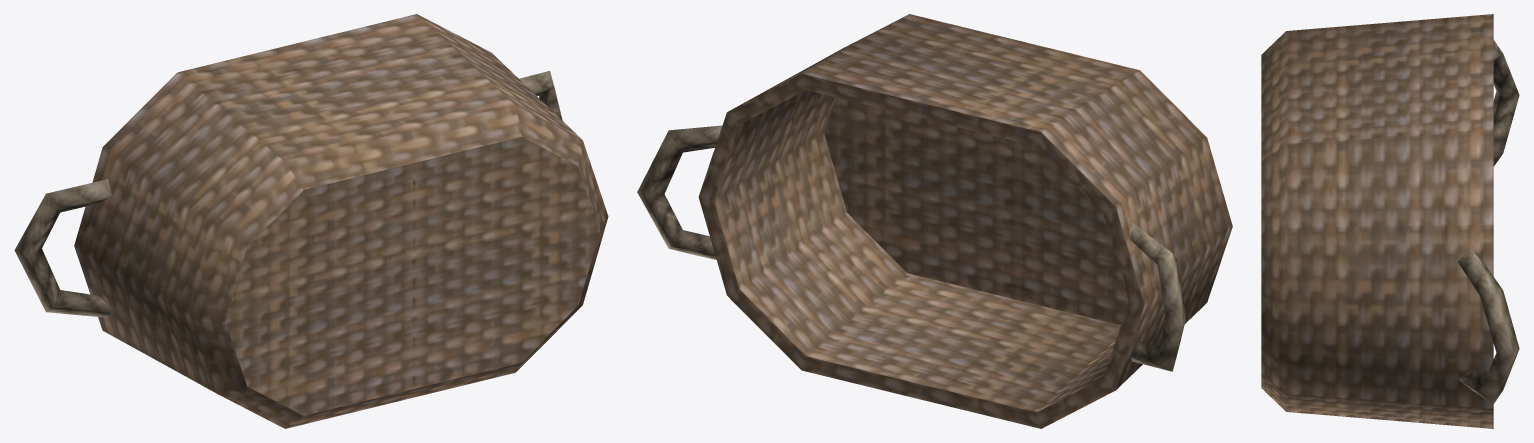
Rendered from Basket_Round_B.fbx.
3 views of the same model, side by side, from view 1: azimuth 30°, elevation 25°; view 2: azimuth 150°, elevation 25°; view 3: azimuth 270°, elevation 25° (orthographic).
Visible parts, largest first — view 1: Basket_Round_B; view 2: Basket_Round_B; view 3: Basket_Round_B.
Part boxes in pixels (x1,y1,x2,y2): Basket_Round_B: (14,14,608,428); Basket_Round_B: (637,14,1232,428); Basket_Round_B: (1261,14,1519,428).
Bounding box in the file's own units: 1.49 × 0.772 × 0.6069.
